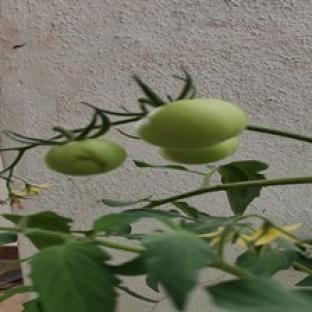Tomato: (136, 99, 246, 149), (45, 140, 126, 175), (159, 137, 238, 164)
